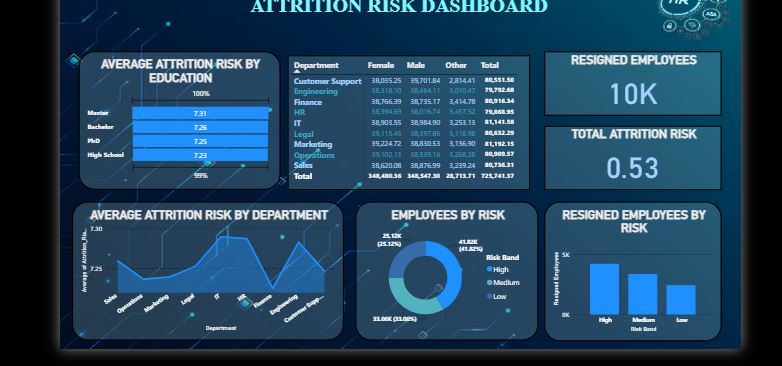

This screenshot's page, from the dashboard's own definition file:
{"tool":"powerbi","page":{"name":"Attrition risk","canvas":[1280,720],"ordinal":4},"visuals":[{"type":"image","box":[1000.5,0,280,148.5],"z":0},{"type":"areaChart","title":"AVERAGE ATTRITION RISK BY DEPARTMENT","fields":{"Category":["cleaned_HR_analytics.Department"],"Y":["Avg(cleaned_HR_analytics.Attrition_Risk_Score)"]},"box":[23.7,442.6,511.5,262],"z":1000},{"type":"donutChart","title":"EMPLOYEES BY RISK","fields":{"Y":["CountNonNull(cleaned_HR_analytics.Employee_ID)"],"Category":["cleaned_HR_analytics.Risk Band"]},"box":[554.4,442.6,344.4,262],"z":2000},{"type":"columnChart","title":"RESIGNED EMPLOYEES BY RISK","fields":{"Category":["cleaned_HR_analytics.Risk Band"],"Y":["cleaned_HR_analytics.Resigned Employees"]},"box":[910.1,442.3,333.8,263.2],"z":3000},{"type":"pivotTable","fields":{"Rows":["cleaned_HR_analytics.Department"],"Columns":["cleaned_HR_analytics.Gender"],"Values":["Sum(cleaned_HR_analytics.Attrition_Risk_Score)"]},"box":[426.8,167.1,456.2,254.1],"z":4000},{"type":"card","title":"RESIGNED EMPLOYEES","fields":{"Values":["cleaned_HR_analytics.Resigned Employees"]},"box":[910.5,160.7,333.5,121.7],"z":5000},{"type":"card","title":"TOTAL ATTRITION RISK","fields":{"Values":["cleaned_HR_analytics.Overall Attrition Risk %"]},"box":[910.5,299.4,333.5,121.7],"z":6000},{"type":"funnel","title":"AVERAGE ATTRITION RISK BY EDUCATION ","fields":{"Category":["cleaned_HR_analytics.Education_Level"],"Y":["Avg(cleaned_HR_analytics.Attrition_Risk_Score)"]},"box":[33.9,160.3,379.4,260.8],"z":7000},{"type":"textbox","box":[353.4,48.6,603,66.6],"z":8000}]}

Visuals, with their boxes on the page's 1280x720 design canvas (x1, y1, x2, y2). These are canvas units, not pixel positions in the 782x366 screenshot, which may show the page scaled, cropped or inside an application window:
image: 1000/0/1280/148
"AVERAGE ATTRITION RISK BY DEPARTMENT" areaChart: 24/443/535/705
"EMPLOYEES BY RISK" donutChart: 554/443/899/705
"RESIGNED EMPLOYEES BY RISK" columnChart: 910/442/1244/706
pivotTable - cleaned_HR_analytics.Department x cleaned_HR_analytics.Gender: 427/167/883/421
"RESIGNED EMPLOYEES" card: 910/161/1244/282
"TOTAL ATTRITION RISK" card: 910/299/1244/421
"AVERAGE ATTRITION RISK BY EDUCATION " funnel: 34/160/413/421
textbox: 353/49/956/115
